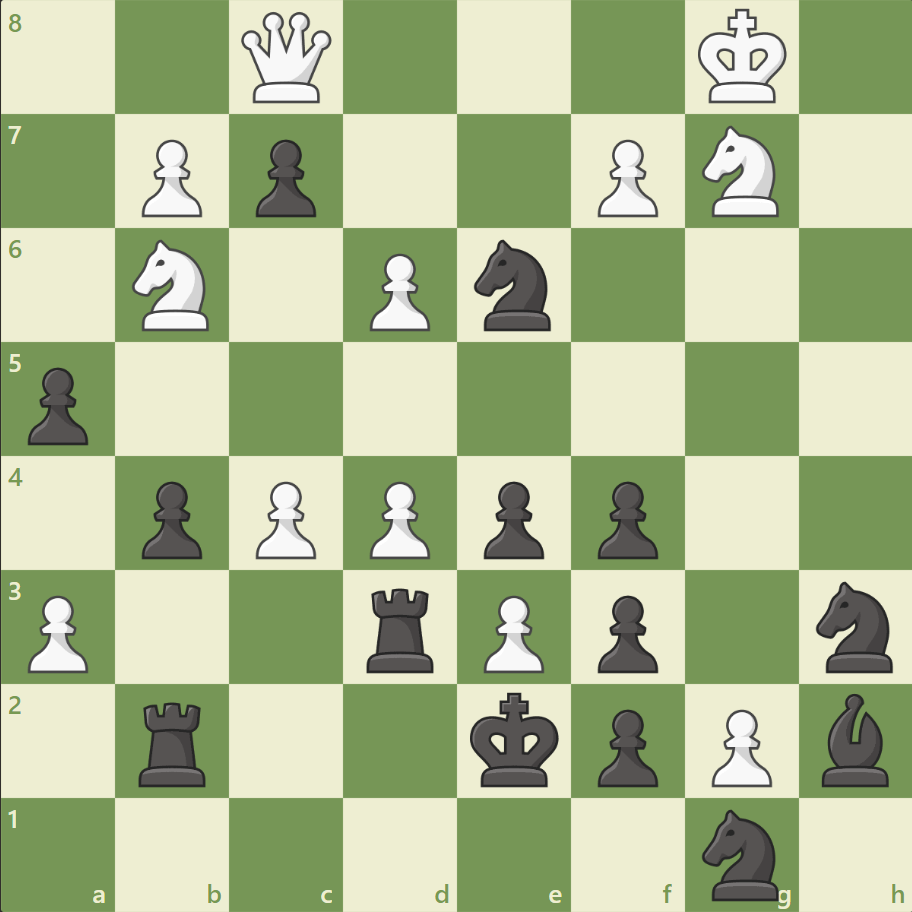K: (692, 4, 792, 112)
N: (124, 234, 222, 337), (692, 121, 789, 223)
P: (133, 132, 208, 223), (247, 473, 322, 564), (20, 586, 95, 677), (474, 586, 549, 677), (701, 700, 776, 791), (588, 132, 662, 223), (361, 246, 435, 337), (361, 473, 435, 564)
Q: (237, 9, 336, 108)
b: (812, 687, 896, 790)
k: (465, 685, 565, 793)
n: (465, 234, 562, 337), (806, 575, 903, 677), (692, 802, 789, 904)
p: (247, 132, 322, 223), (20, 359, 95, 450), (133, 473, 208, 564), (474, 473, 549, 564), (588, 473, 662, 564), (588, 586, 662, 677), (588, 700, 662, 791)
r: (360, 579, 442, 676), (133, 693, 215, 790)
